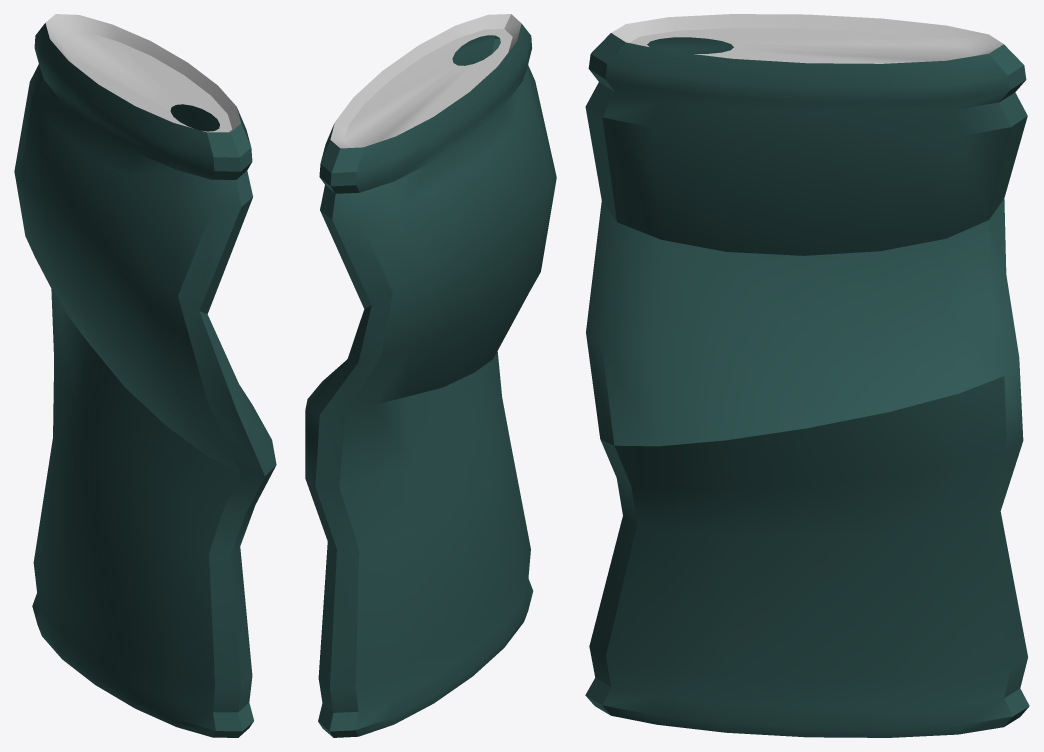
Rendered from LataBebida_02.fbx.
3 views of the same model, side by side, from view 1: azimuth 30°, elevation 25°; view 2: azimuth 150°, elevation 25°; view 3: azimuth 270°, elevation 25° (orthographic). The views are drawn at different scales.
Parts seen in each view (by area): view 1: LataBebida_02; view 2: LataBebida_02; view 3: LataBebida_02.
Part boxes in pixels (x1,y1,x2,y2): LataBebida_02: (14, 14, 276, 737); LataBebida_02: (305, 14, 556, 737); LataBebida_02: (585, 14, 1029, 737).
Size of the model in its own units: 11.22 by 43.83 by 25.81.
